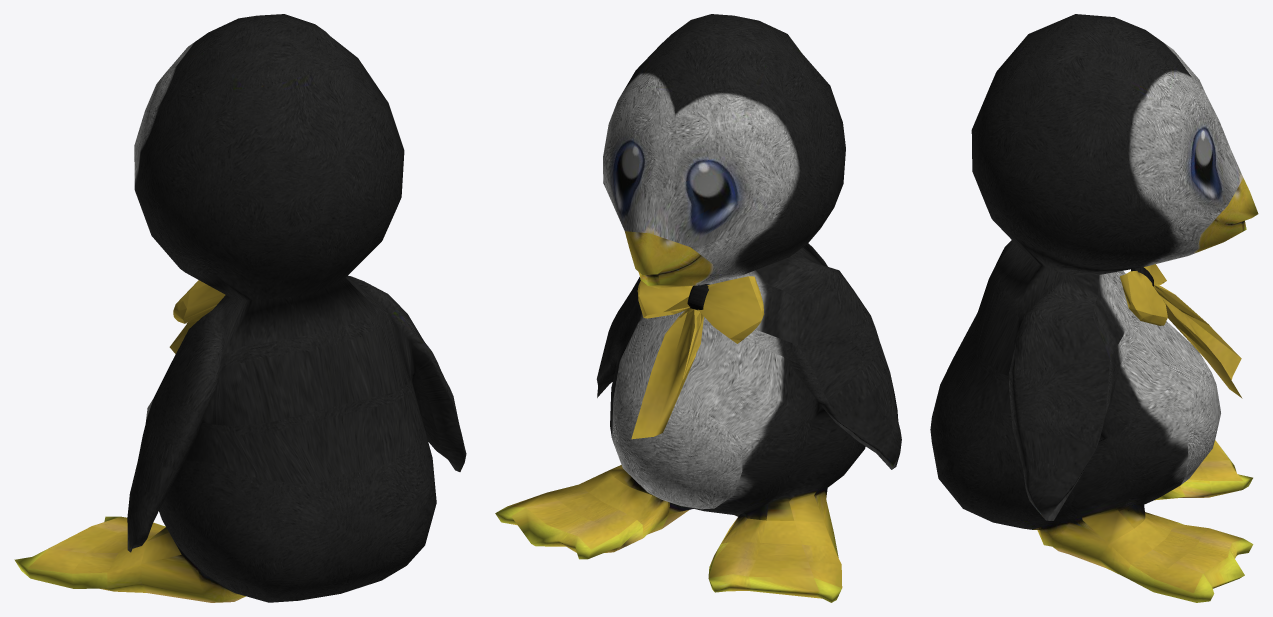
3 views of the same model, side by side, from view 1: azimuth 30°, elevation 25°; view 2: azimuth 150°, elevation 25°; view 3: azimuth 270°, elevation 25° (orthographic). The views are drawn at different scales.
Parts seen in each view (by area): view 1: smMAT0110033; view 2: smMAT0110033; view 3: smMAT0110033.
Part boxes in pixels (left/top/right/bottom): smMAT0110033: left=14, top=14, right=466, bottom=602; smMAT0110033: left=495, top=14, right=901, bottom=602; smMAT0110033: left=930, top=14, right=1258, bottom=602.
Bounding box in the file's own units: 170 × 241 × 142.
1 material, 1 textured.
